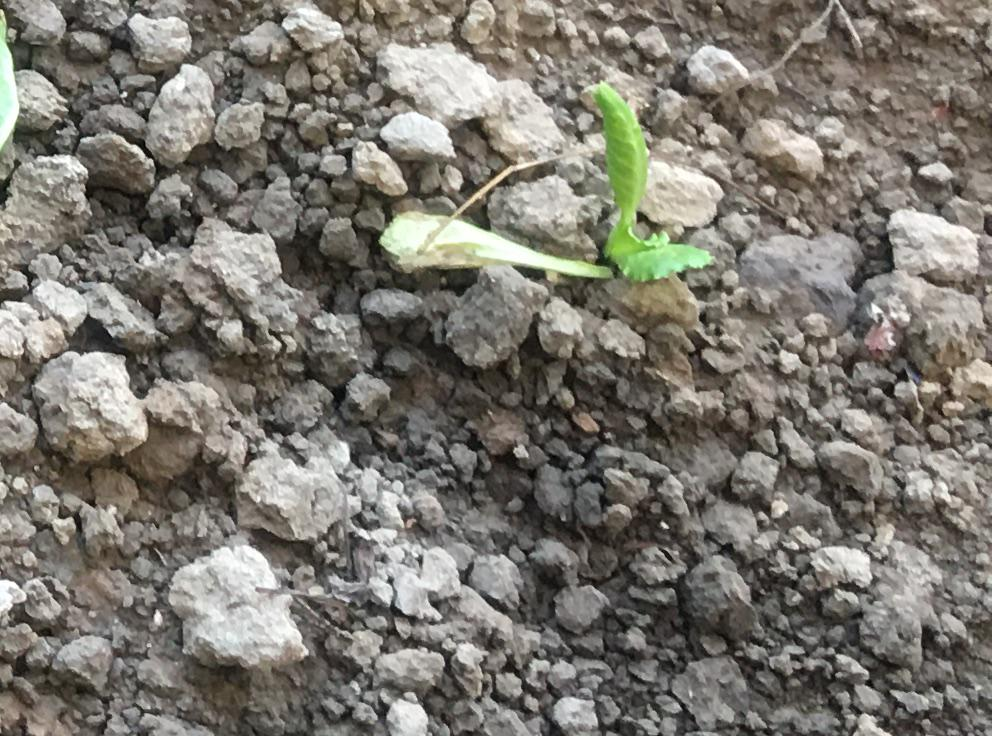block: (161, 545, 317, 679), (374, 30, 511, 125), (863, 269, 986, 372), (35, 349, 150, 457), (3, 159, 92, 275), (226, 448, 337, 540), (876, 202, 979, 287), (150, 69, 222, 166)
